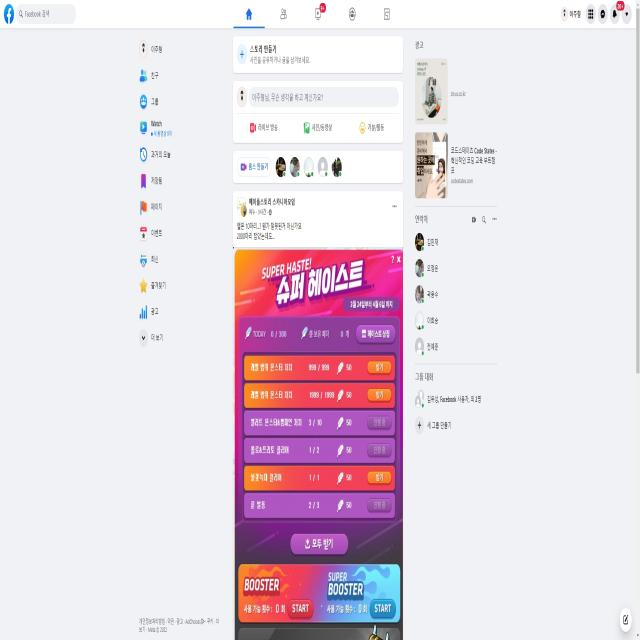menu-panel: (134, 34, 229, 354)
search: (16, 2, 76, 25)
side-panel: (412, 39, 510, 445)
